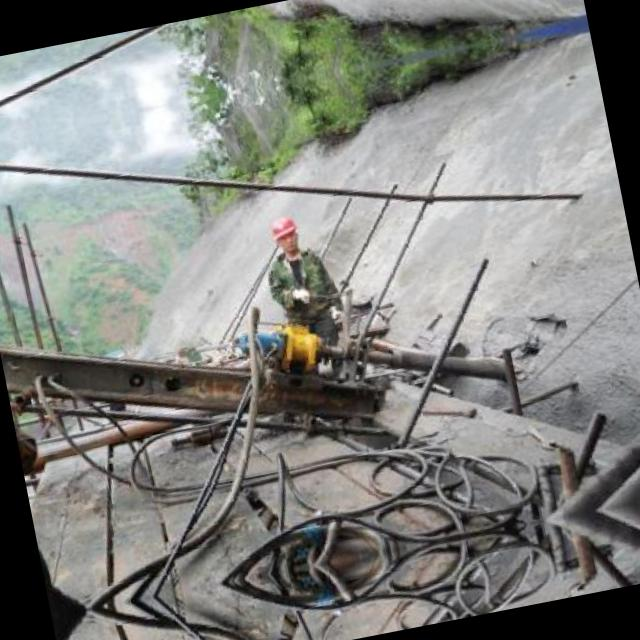helmet: (269, 211, 302, 254)
